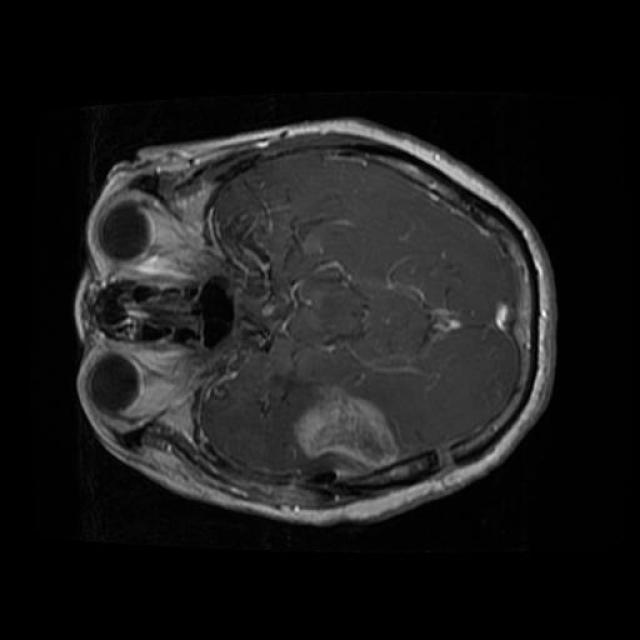Glioma: (294, 386, 398, 467)
